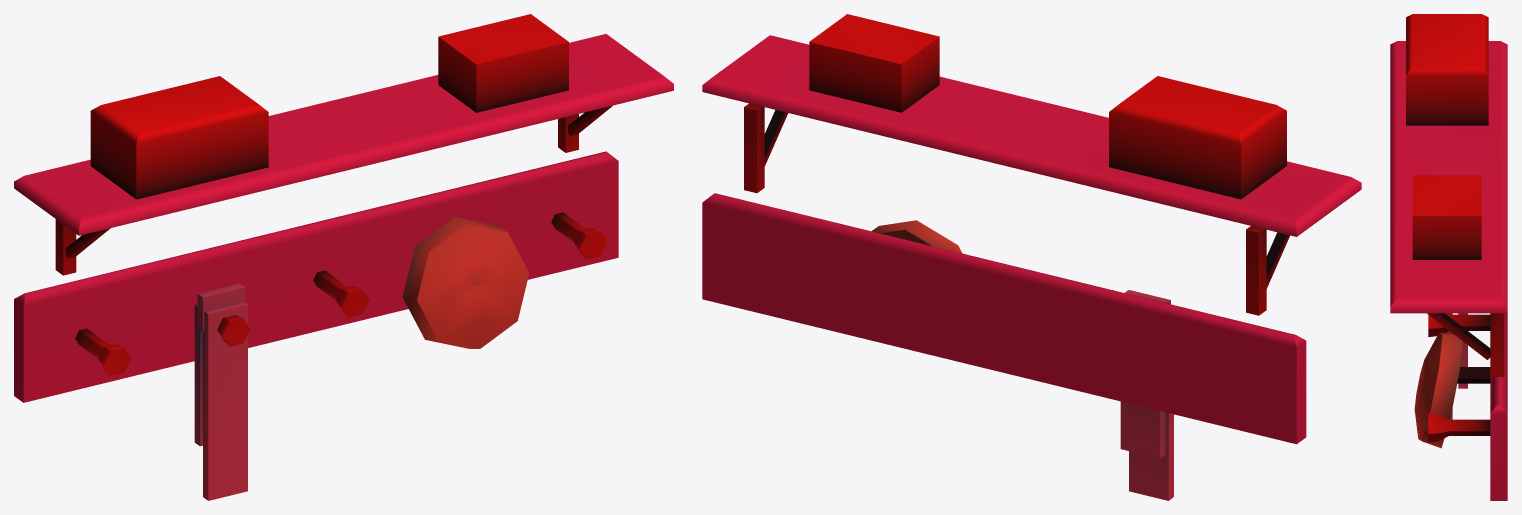
Rendered from CI_Cafe_CoatRack_Wall.glb.
3 renders of one model, left to right at view 1: azimuth 30°, elevation 25°; view 2: azimuth 150°, elevation 25°; view 3: azimuth 270°, elevation 25°, orthographic. The views are drawn at different scales.
Parts seen in each view (by area): view 1: CI_Cafe_CoatRack_Wall; view 2: CI_Cafe_CoatRack_Wall; view 3: CI_Cafe_CoatRack_Wall.
Part boxes in pixels (<box>): CI_Cafe_CoatRack_Wall: <box>14,14,673,500</box>; CI_Cafe_CoatRack_Wall: <box>702,14,1361,500</box>; CI_Cafe_CoatRack_Wall: <box>1390,14,1507,500</box>.
Size of the model in its own units: 0.9 by 0.58 by 0.17.
